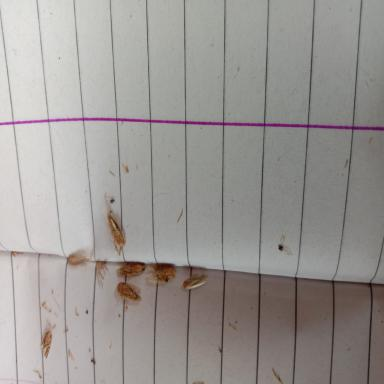pbw: (105, 208, 126, 255), (148, 262, 176, 283), (117, 282, 142, 302), (116, 262, 146, 277), (183, 273, 209, 289), (41, 330, 52, 358), (68, 253, 90, 264)
